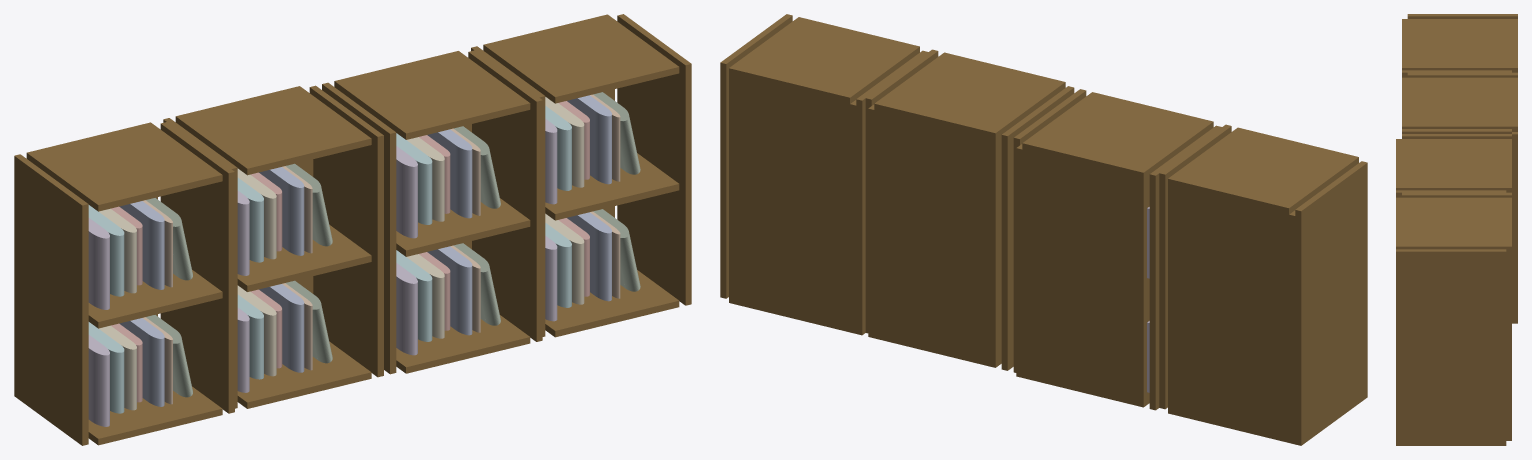
File: Neat(1).glb
The picture shows the model from 3 angles, left to right: view 1: azimuth 30°, elevation 25°; view 2: azimuth 150°, elevation 25°; view 3: azimuth 270°, elevation 25°; orthographic projection. The views are drawn at different scales.
Parts seen in each view (by area): view 1: Mesh_Mesh_head_geo.001_lambert2SG.001; view 2: Mesh_Mesh_head_geo.001_lambert2SG.001; view 3: Mesh_Mesh_head_geo.001_lambert2SG.001.
Boxes of the visible parts, x1,y1,x2,y2 form: Mesh_Mesh_head_geo.001_lambert2SG.001: (14,14,691,445); Mesh_Mesh_head_geo.001_lambert2SG.001: (720,14,1367,445); Mesh_Mesh_head_geo.001_lambert2SG.001: (1396,14,1517,445).
Size of the model in its own units: 0.097 by 0.037 by 0.021.
